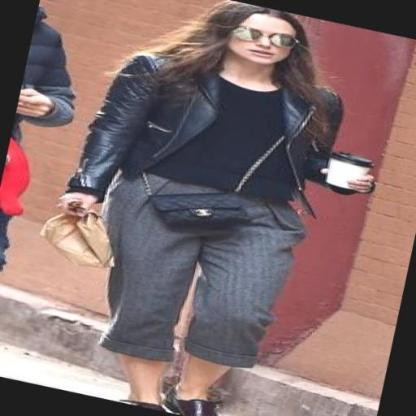bag: (145, 178, 251, 239)
person: (59, 0, 375, 416)
